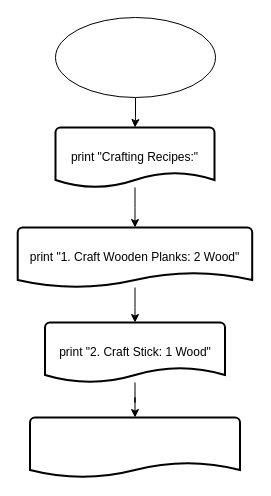
This 271x496 diagram has some shape labels left out. The box of each missing label's shape, as (x1, y1, x2, y2) in pixels:
displayCraftingRecepies() start: (54, 16, 216, 98)
print "3. Craft Iron Ingot: 3 Iron Ore": (28, 416, 240, 478)
